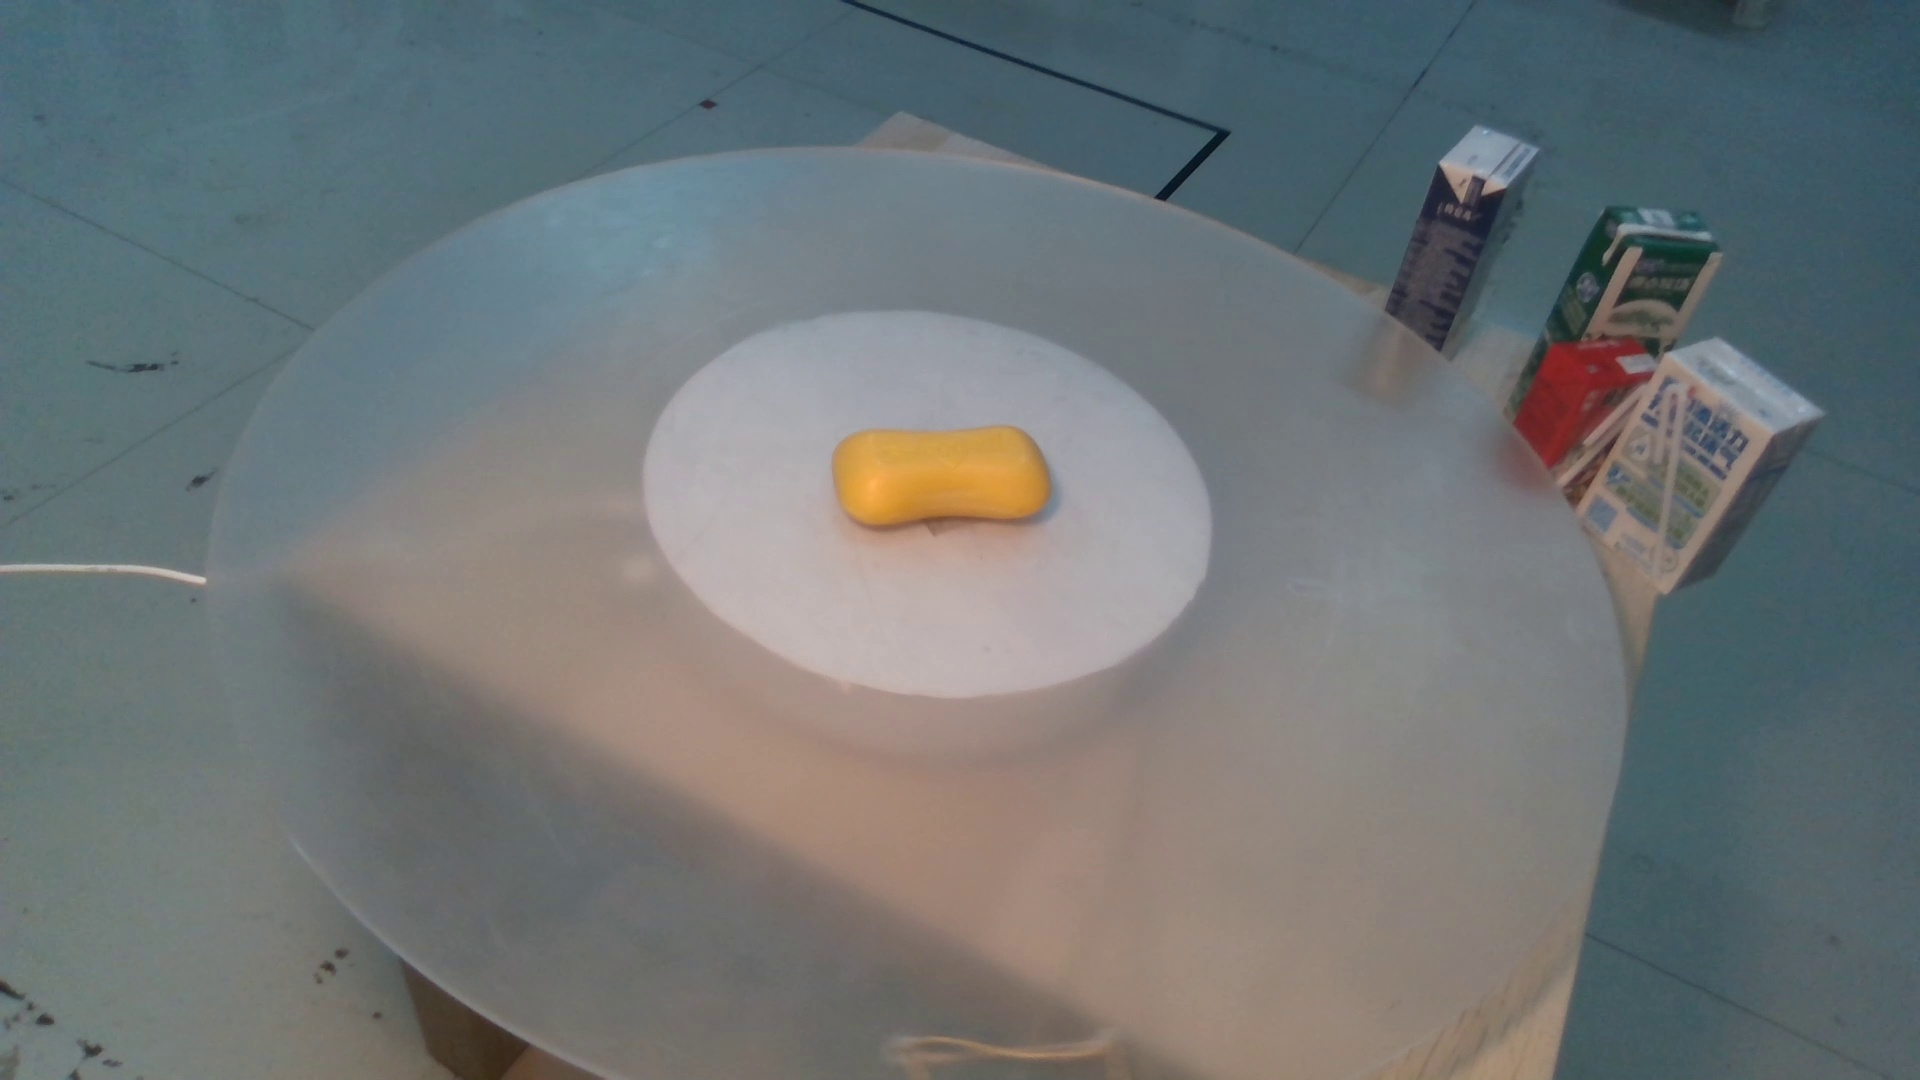CA003_1: (804, 400, 1083, 553)
